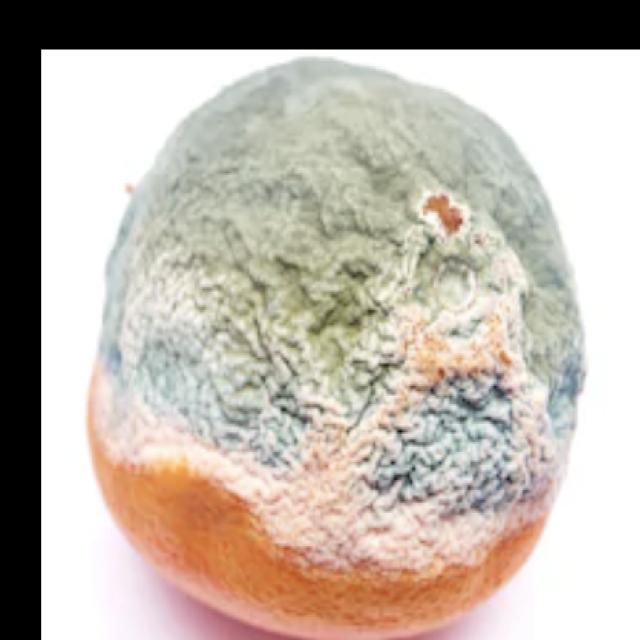sangat-busuk: (87, 60, 584, 639)
